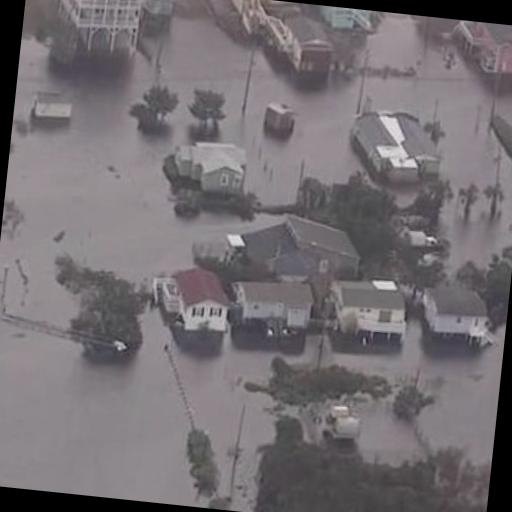flood: (0, 3, 363, 512), (365, 12, 512, 272), (291, 318, 506, 464)
house: (240, 211, 366, 285), (225, 264, 318, 351), (154, 256, 236, 344), (325, 272, 412, 354), (352, 104, 442, 183), (48, 0, 147, 70), (164, 134, 248, 208), (419, 276, 493, 354), (279, 15, 339, 77), (455, 20, 512, 77), (324, 6, 378, 36), (28, 89, 76, 121), (264, 103, 296, 133), (143, 0, 184, 13)
